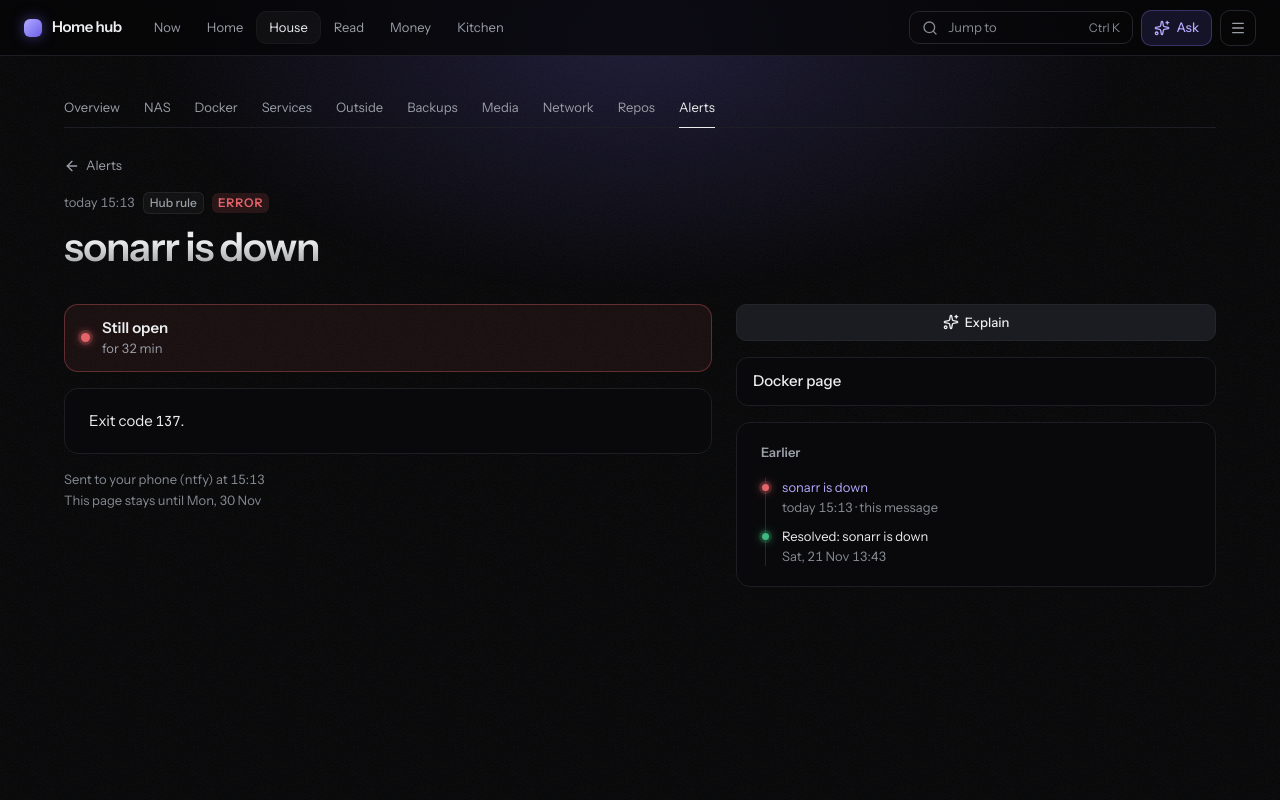
it: AlertMessagePage › says why Claude gave no answer
Click the button "Explain" at (976, 322), box [736,304,1216,341]
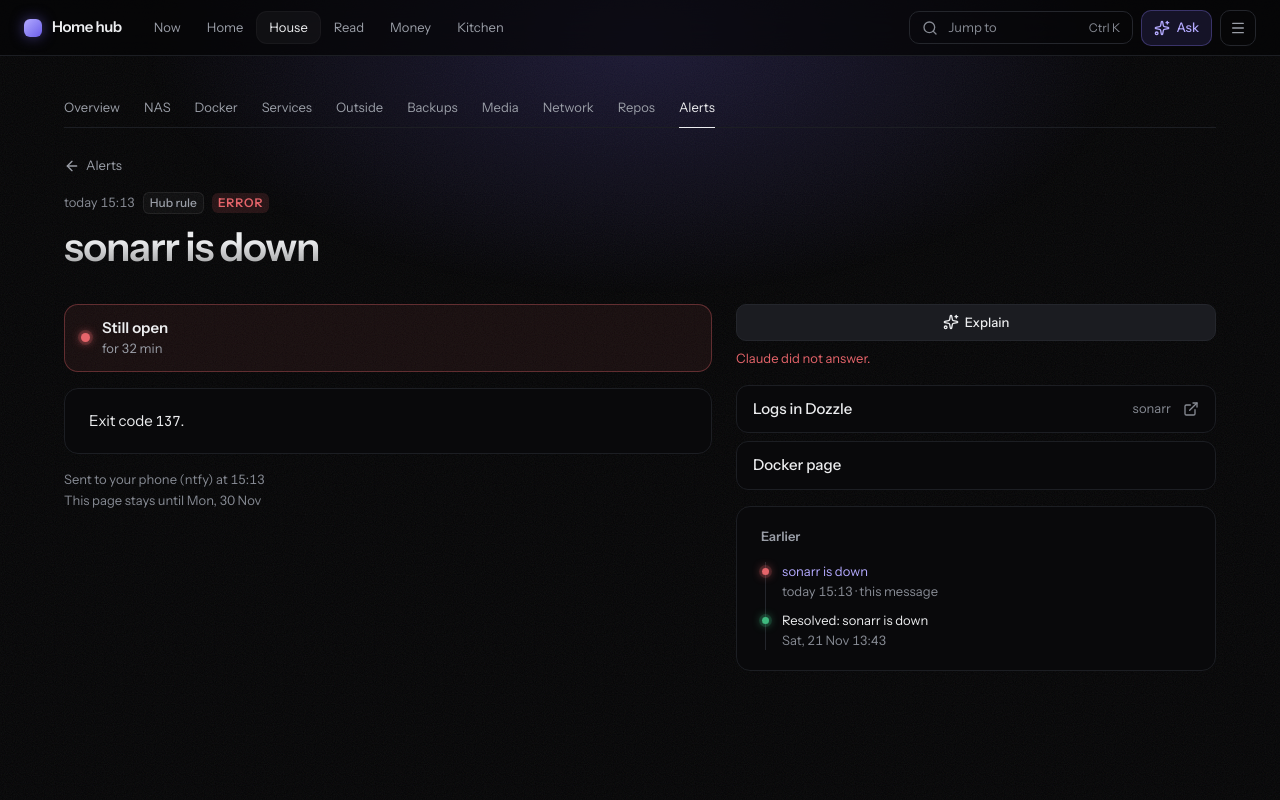
Expected: the message "Claude did not answer." is shown, [736,350,870,366]
